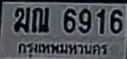1: (96, 8, 104, 33)
6: (110, 8, 122, 33), (63, 8, 75, 32)
9: (78, 8, 90, 32)
A06: (14, 6, 30, 31)
A19: (31, 6, 48, 32)
BKK: (16, 40, 111, 59)
